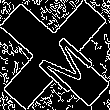M_NW: (21, 21, 89, 89)
